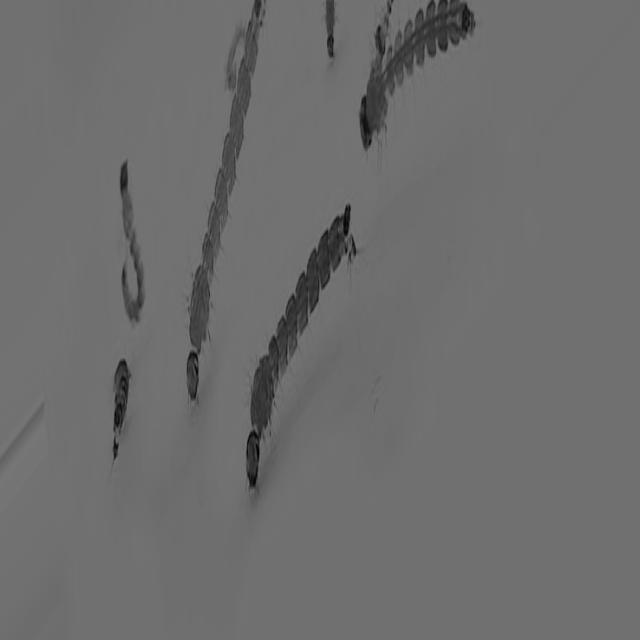larvas: (223, 188, 367, 502), (170, 0, 277, 399), (352, 0, 489, 149), (118, 170, 144, 326), (108, 356, 129, 451), (222, 12, 242, 91), (372, 0, 398, 48), (321, 0, 338, 62)
